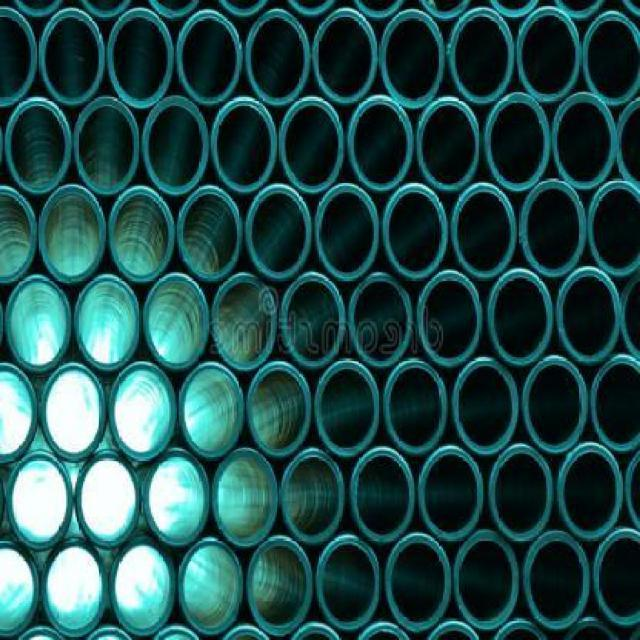pipe: (39, 185, 107, 285), (108, 362, 176, 462), (246, 537, 314, 637), (108, 537, 176, 637), (40, 537, 108, 637), (142, 97, 210, 196), (142, 451, 210, 550), (40, 363, 106, 463), (108, 9, 174, 109), (453, 531, 519, 631), (385, 534, 451, 634), (346, 96, 414, 193), (74, 451, 142, 548), (485, 93, 550, 194), (74, 97, 140, 196), (556, 268, 622, 367), (486, 269, 552, 368), (6, 451, 72, 550), (523, 532, 589, 631), (106, 186, 174, 282), (212, 449, 277, 549), (380, 9, 445, 109), (522, 178, 587, 277), (5, 275, 70, 374), (488, 445, 553, 544), (5, 97, 71, 194), (143, 273, 209, 370), (522, 357, 588, 454), (453, 359, 519, 456), (179, 363, 245, 460), (557, 443, 623, 540), (177, 540, 243, 637), (211, 97, 277, 193), (176, 9, 242, 105), (279, 97, 344, 194), (451, 182, 516, 279), (314, 185, 379, 282), (177, 186, 242, 283), (417, 269, 482, 366), (280, 273, 345, 370), (315, 360, 380, 457), (351, 448, 416, 545), (517, 6, 582, 103), (449, 6, 514, 103), (40, 8, 105, 105), (245, 9, 310, 106), (74, 276, 140, 371), (551, 94, 616, 190), (383, 185, 448, 281), (246, 185, 311, 281), (312, 8, 377, 104), (417, 448, 483, 542), (383, 360, 446, 457), (316, 536, 379, 633), (246, 363, 311, 457), (280, 451, 345, 545), (417, 97, 480, 191), (350, 274, 413, 368), (583, 11, 640, 107), (588, 178, 640, 276), (592, 529, 640, 628), (591, 356, 640, 451), (0, 361, 39, 466), (2, 540, 41, 639), (0, 6, 37, 108), (0, 186, 37, 285)
